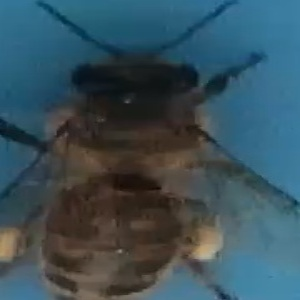bee: (2, 7, 283, 300)
